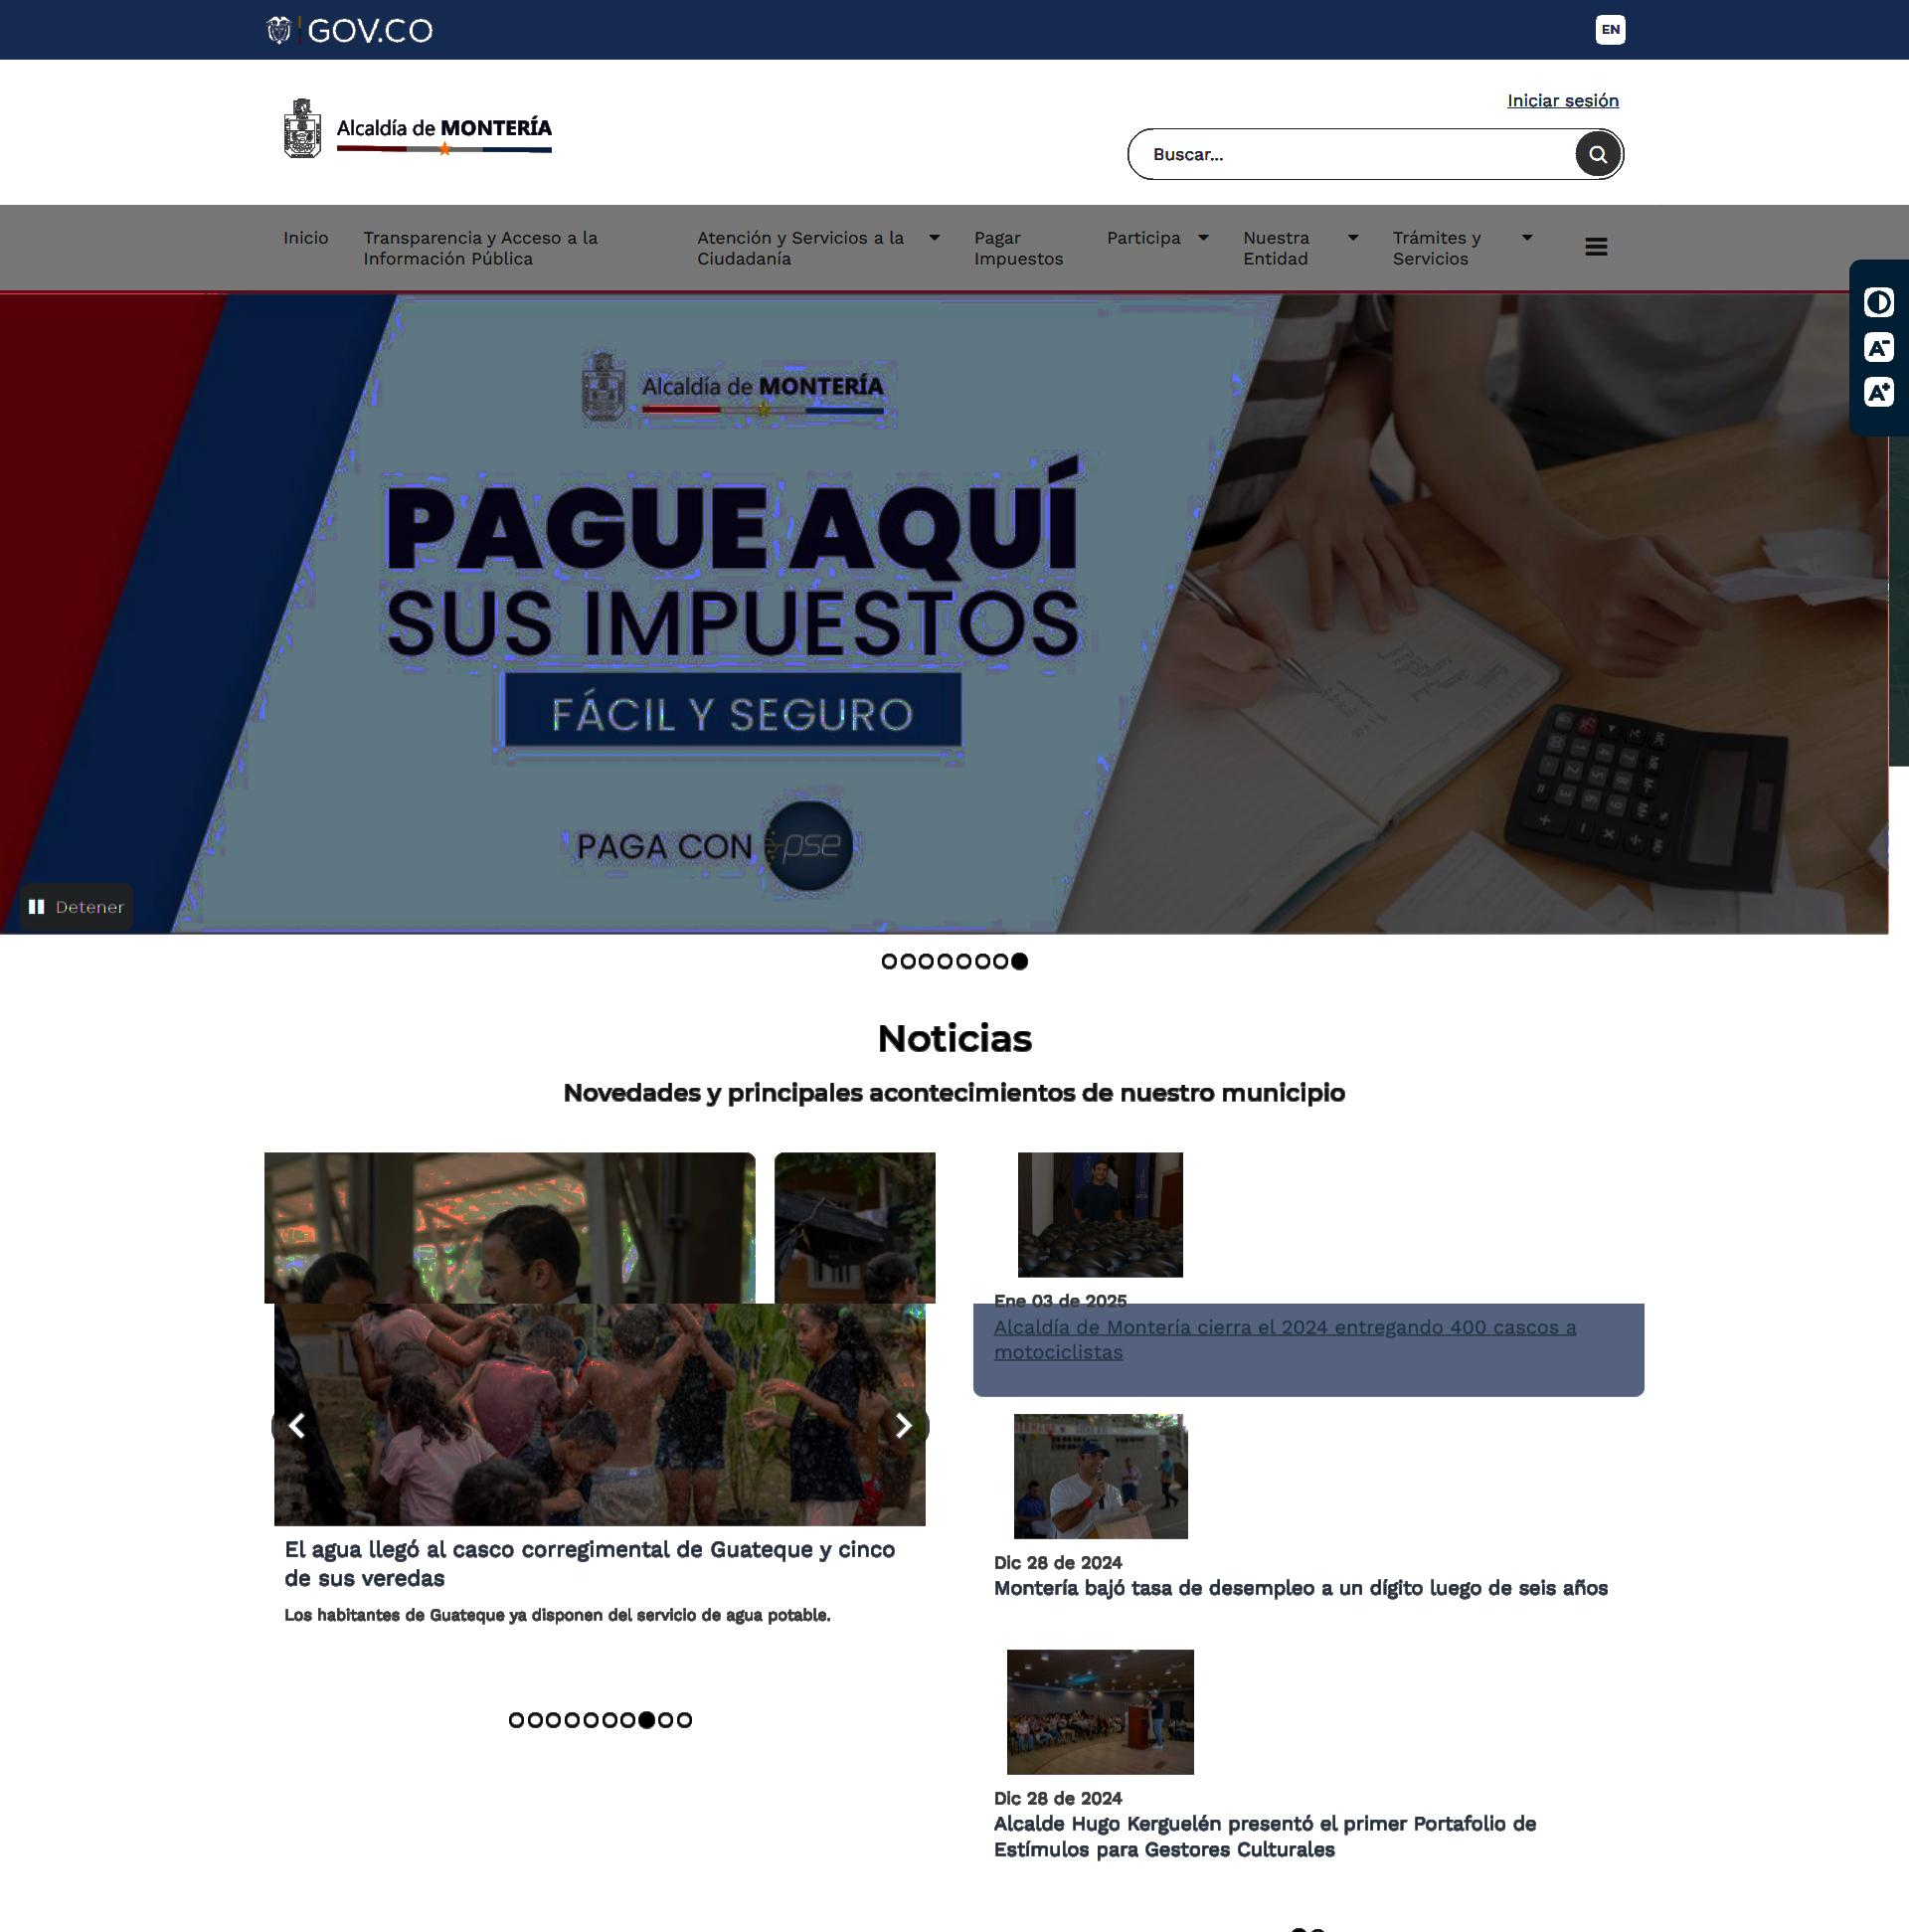banner principal: (0, 281, 1886, 976)
barra accesibilidad: (1847, 256, 1909, 439)
barra govco: (260, 0, 1630, 65)
btn atencion ciudadano: (692, 222, 946, 269)
btn buscador: (1124, 122, 1627, 185)
btn entidad: (1236, 223, 1365, 277)
btn idiomas: (1596, 10, 1627, 48)
btn inicio: (278, 227, 331, 249)
btn inicio sesion: (1501, 88, 1625, 116)
btn noticias: (875, 1016, 1035, 1059)
btn participa: (1101, 227, 1214, 252)
btn tramites: (1386, 226, 1537, 274)
btn transpariencia: (357, 223, 601, 270)
logogovco: (263, 9, 438, 50)
menu principal: (277, 199, 1616, 276)
